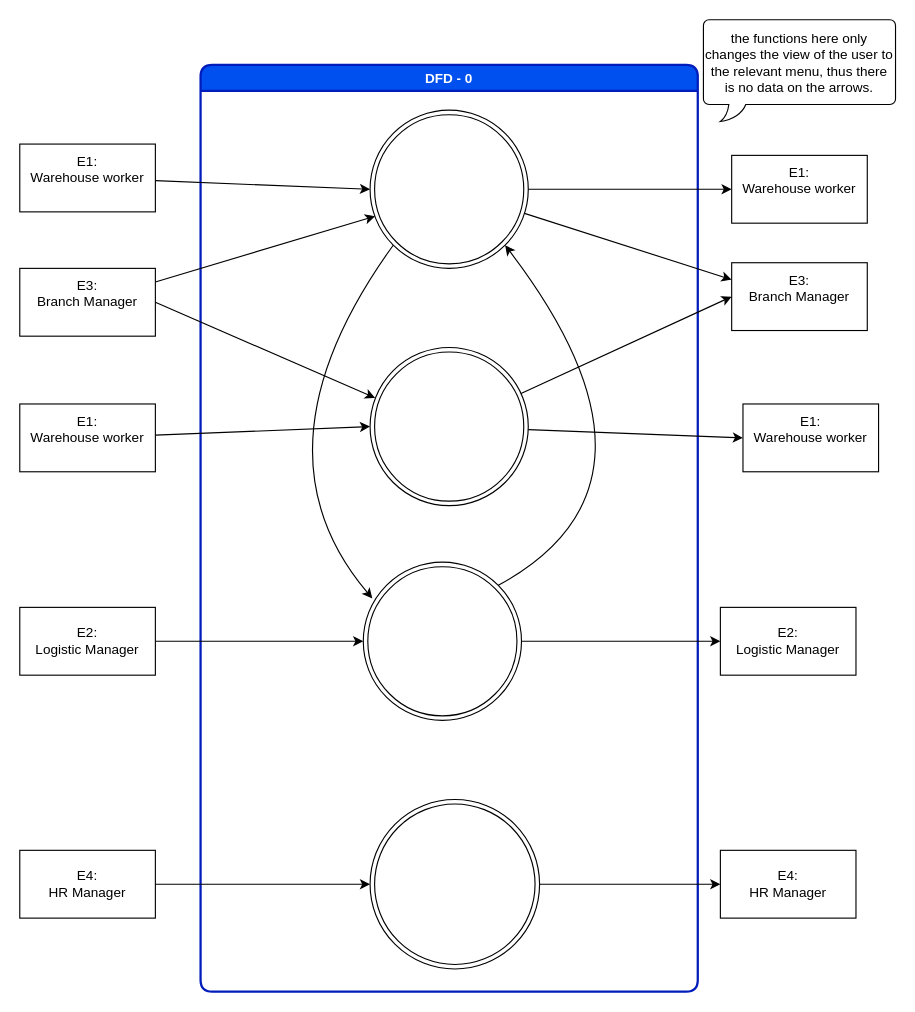
Some shapes in this 915 by 1012 pixel diagram are drawn without their labels. The centre of each missing label's shape, as x and y in pixels:
1 Suppliers Managment: (448,188)
2 Inventory Managment: (448,426)
3 Delivery Managment: (441,640)
4 Employee Managment: (454,883)
